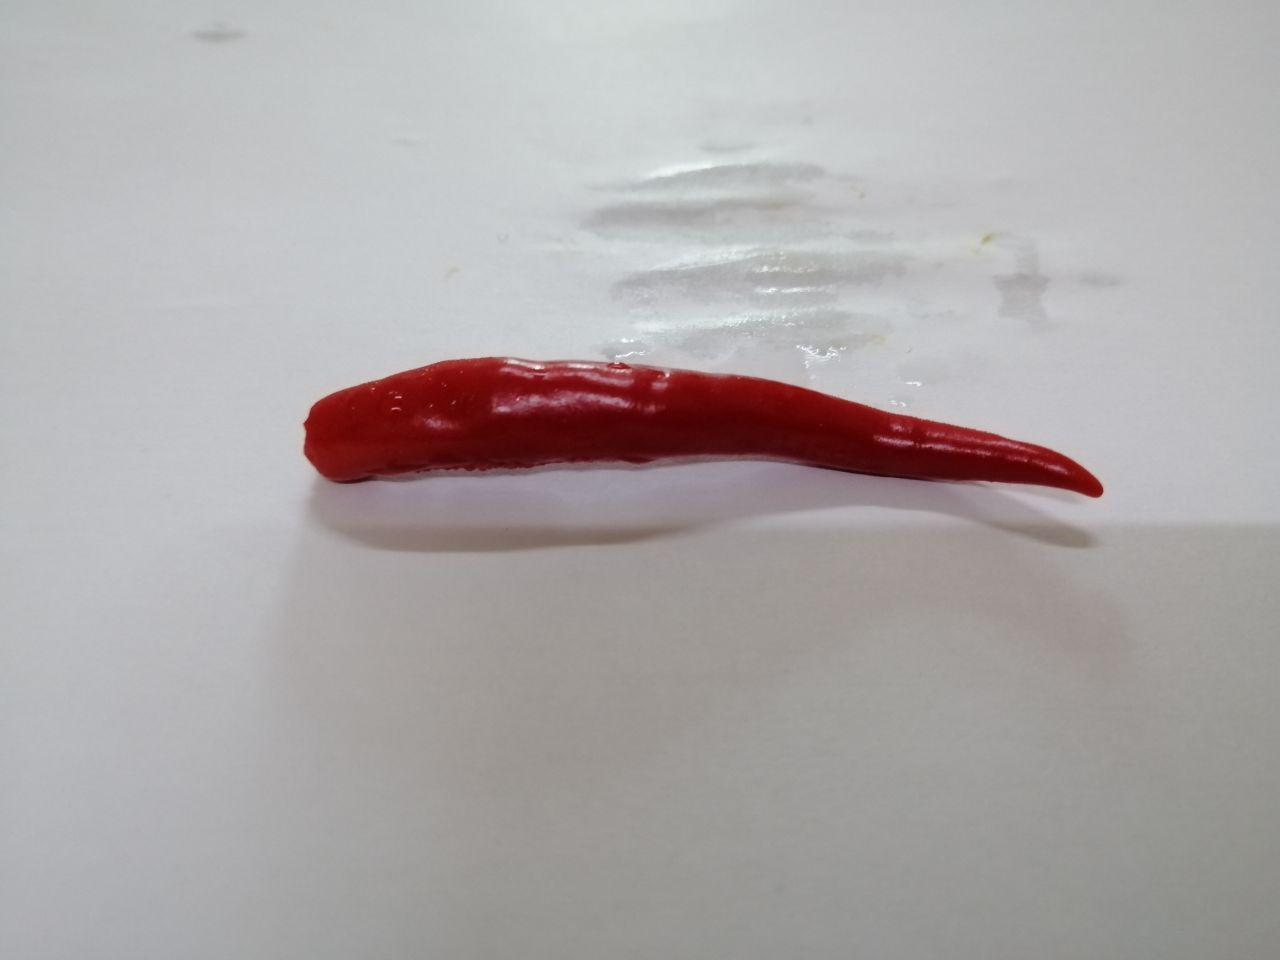lada merah: (283, 342, 1115, 518)
